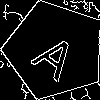A: (30, 25, 87, 83)
